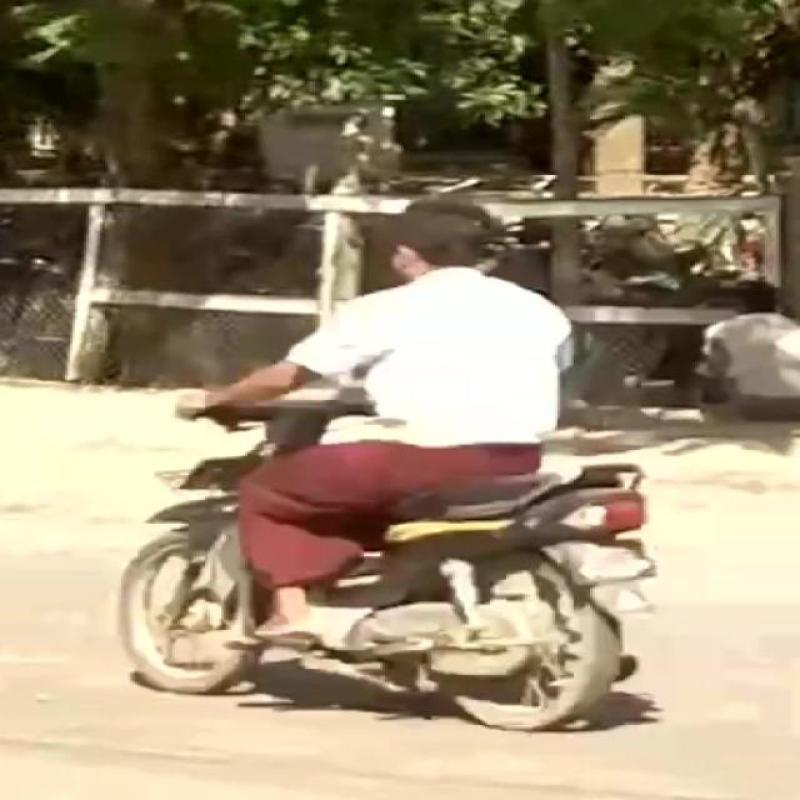nohelmet: (359, 181, 540, 280)
